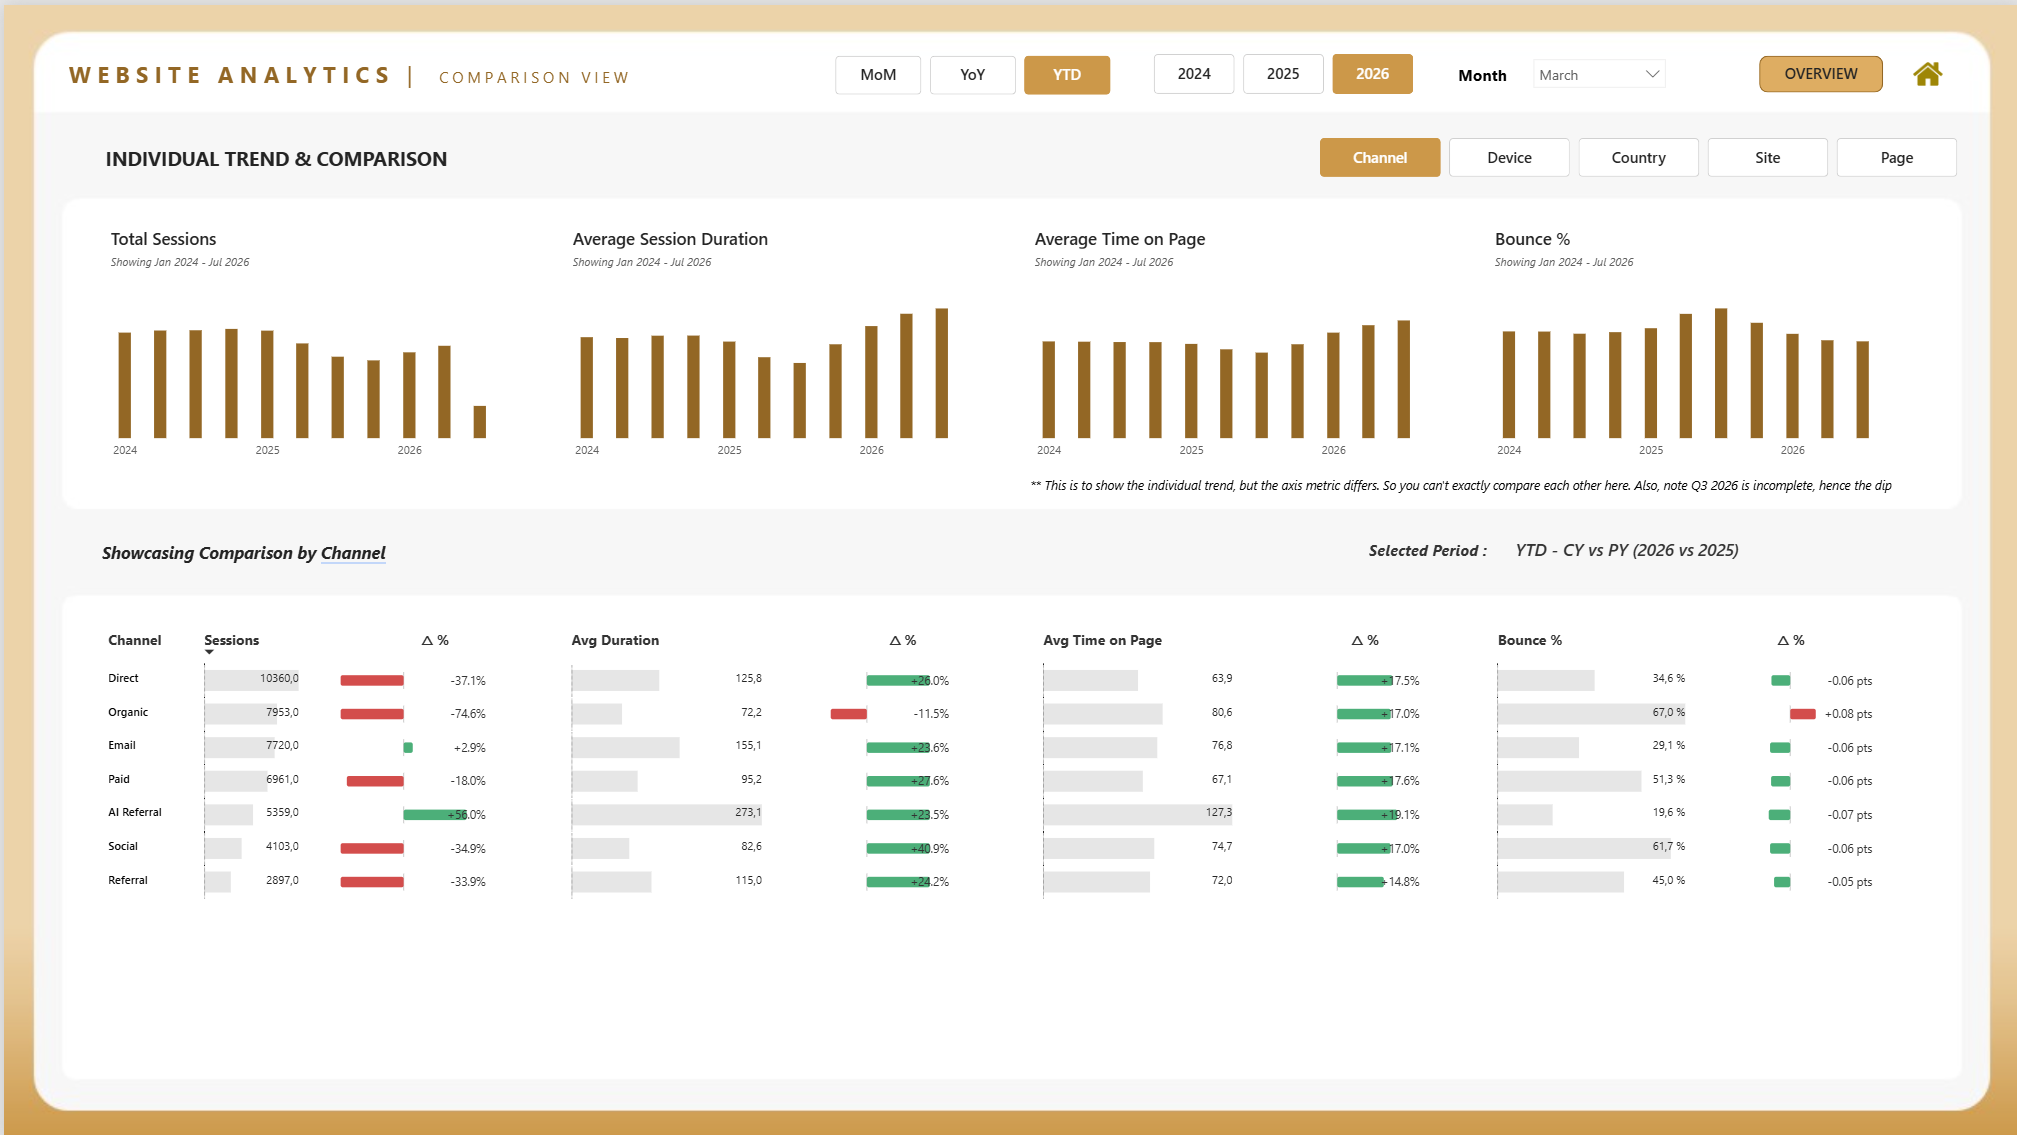

This screenshot's page, from the dashboard's own definition file:
{"tool":"powerbi","page":{"name":"COMPARISON VIEW","canvas":[1920,1080],"ordinal":2},"visuals":[{"type":"advancedSlicerVisual","fields":{"Values":["prm_Dimension.prm_Dimension"]},"box":[1253.5,126.4,612,37.7],"z":0},{"type":"cardVisual","fields":{"Data":["_Measures.Selection Period"]},"box":[1423.7,484,473.4,69.9],"z":0,"group":"g1"},{"type":"advancedSlicerVisual","fields":{"Values":["Period Compare.Period"]},"box":[791.1,48.4,262.9,37.1],"z":1000},{"type":"textbox","box":[1300,509,137.2,29.6],"z":1000,"group":"g1"},{"type":"advancedSlicerVisual","fields":{"Values":["dim_date.Year"]},"box":[1095.8,47,248.6,38.6],"z":2000},{"type":"slicer","fields":{"Values":["dim_date.MonthName"]},"box":[1451.1,46.8,135.7,48.6],"z":3000},{"type":"pageNavigator","box":[1671.8,48.4,118.6,35.7],"z":4000},{"type":"textbox","box":[1385.8,57,61.4,28.6],"z":5000},{"type":"columnChart","title":"Total Sessions","fields":{"Category":["dim_date.QuarterStartDate"],"Y":["_Measures.Total Sessions"]},"box":[81.4,196.1,404.8,250],"z":6000},{"type":"pivotTable","fields":{"Rows":["dim_channel.Channel"],"Values":["_Measures.Total Sessions (display)","_Measures.Delta Diverging SVG","_Measures.Avg Session Duration (display)","_Measures.Delta Diverging SVG - Avg Session Duration","_Measures.Avg Time on Page (display)","_Measures.Delta Diverging SVG - Avg time on page","_Measures.Bounce Rate (display)","_Measures.Delta Diverging SVG - Bounce Rate"]},"box":[78.6,575.7,1761.4,438.6],"z":7000},{"type":"columnChart","title":"Average Session Duration","fields":{"Category":["dim_date.QuarterStartDate"],"Y":["_Measures.Avg Session Duration"]},"box":[521.2,196.1,404.8,250],"z":8000},{"type":"columnChart","title":"Bounce %","fields":{"Category":["dim_date.QuarterStartDate"],"Y":["_Measures.Bounce Rate"]},"box":[1400.8,196.1,403.5,250],"z":9000},{"type":"columnChart","title":"Average Time on Page","fields":{"Category":["dim_date.QuarterStartDate"],"Y":["_Measures.Avg Time on Page"]},"box":[961,196.1,404.8,250],"z":10000},{"type":"group","id":"g1","title":"Group 1","box":[1300,484,597.2,69.9],"z":11000},{"type":"textbox","box":[94.1,509.7,404.8,33.6],"z":12000},{"type":"textbox","box":[974.3,447.1,822.9,37.1],"z":13000},{"type":"textbox","box":[96.8,133.2,404.8,33.6],"z":14000},{"type":"textbox","box":[61.9,51.1,720.9,44.4],"z":15000},{"type":"image","box":[1818.4,51.1,28.2,28.2],"z":16000}]}

Visuals, with their boxes in screenshot pixels (x1, y1, x2, y2), scaled from the page's 1920x1080 canvas onto the 2017x1135 screenshot:
advancedSlicerVisual - prm_Dimension.prm_Dimension: crop(1317, 133, 1960, 172)
cardVisual - _Measures.Selection Period: crop(1496, 509, 1993, 582)
advancedSlicerVisual - Period Compare.Period: crop(831, 51, 1107, 90)
textbox: crop(1366, 535, 1510, 566)
advancedSlicerVisual - dim_date.Year: crop(1151, 49, 1412, 90)
slicer - dim_date.MonthName: crop(1524, 49, 1667, 100)
pageNavigator: crop(1756, 51, 1881, 88)
textbox: crop(1456, 60, 1520, 90)
"Total Sessions" columnChart: crop(86, 206, 511, 469)
pivotTable - dim_channel.Channel x _Measures.Total Sessions (display): crop(83, 605, 1933, 1066)
"Average Session Duration" columnChart: crop(548, 206, 973, 469)
"Bounce %" columnChart: crop(1472, 206, 1895, 469)
"Average Time on Page" columnChart: crop(1010, 206, 1435, 469)
"Group 1" group: crop(1366, 509, 1993, 582)
textbox: crop(99, 536, 524, 571)
textbox: crop(1024, 470, 1888, 509)
textbox: crop(102, 140, 527, 175)
textbox: crop(65, 54, 822, 100)
image: crop(1910, 54, 1940, 83)
